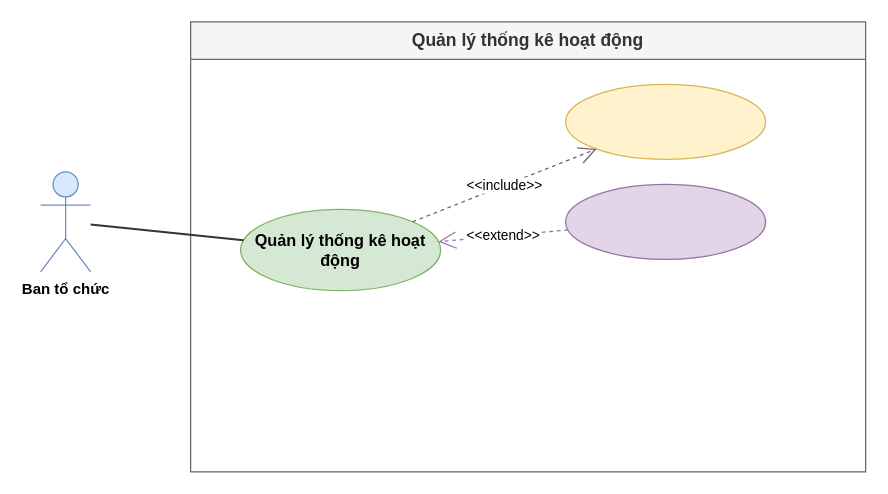
This 888x494 diagram has some shape labels left out. Here are the shapes that lost their labels. From the top down, the box of each, then its label:
(564, 83, 766, 159): Xem Dashboard KPI
(564, 183, 766, 259): Lọc biểu đồ doanh thu
